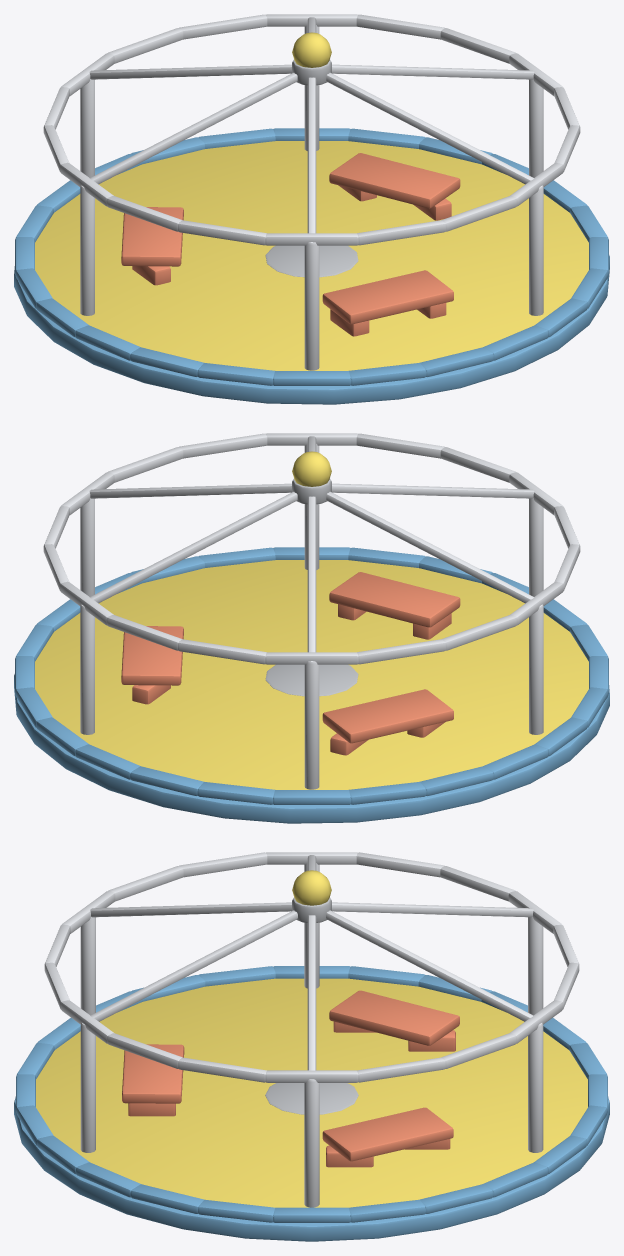
The model's file is th16_karussell_klein.glb.
The picture shows the model from 3 angles, top to bottom: view 1: azimuth 30°, elevation 25°; view 2: azimuth 150°, elevation 25°; view 3: azimuth 270°, elevation 25°; orthographic projection.
Visible parts, largest first — view 1: Cylinder.003, Cylinder.002, Cube.048, Cube.054, Cube.051, Cube.027, Cube.029, Cylinder.001, Cylinder.008, Cube.024, Cube.026, Cylinder.007 (+48 smaller); view 2: Cylinder.003, Cylinder.002, Cube.051, Cube.054, Cube.048, Cube.025, Cube.027, Cylinder.001, Cylinder.006, Cube.024, Cube.028, Cylinder.005 (+48 smaller); view 3: Cylinder.003, Cylinder.002, Cube.048, Cube.051, Cube.054, Cube.025, Cube.029, Cylinder.001, Cylinder.004, Cylinder.005, Cylinder.009, Cube.026 (+50 smaller).
Boxes of the visible parts, bbox=[...] form: Cylinder.003: bbox=[35, 141, 588, 370]; Cylinder.002: bbox=[14, 255, 609, 404]; Cube.048: bbox=[329, 153, 460, 208]; Cube.054: bbox=[322, 270, 453, 324]; Cube.051: bbox=[121, 207, 183, 266]; Cube.027: bbox=[89, 72, 297, 184]; Cube.029: bbox=[326, 72, 534, 184]; Cylinder.001: bbox=[265, 245, 358, 277]; Cylinder.008: bbox=[304, 242, 319, 370]; Cube.024: bbox=[332, 64, 534, 79]; Cube.026: bbox=[89, 64, 291, 79]; Cylinder.007: bbox=[80, 185, 94, 315]; Cylinder.003: bbox=[35, 560, 588, 789]; Cylinder.002: bbox=[14, 674, 609, 823]; Cube.051: bbox=[322, 689, 453, 743]; Cube.054: bbox=[329, 572, 460, 627]; Cube.048: bbox=[121, 626, 183, 685]; Cube.025: bbox=[89, 491, 297, 603]; Cube.027: bbox=[326, 491, 534, 603]; Cylinder.001: bbox=[265, 664, 358, 696]; Cylinder.006: bbox=[304, 661, 319, 789]; Cube.024: bbox=[89, 483, 291, 498]; Cube.028: bbox=[332, 483, 534, 498]; Cylinder.005: bbox=[80, 604, 94, 734]; Cylinder.003: bbox=[36, 978, 587, 1207]; Cylinder.002: bbox=[14, 1096, 609, 1241]; Cube.048: bbox=[322, 1107, 453, 1161]; Cube.051: bbox=[329, 990, 459, 1045]; Cube.054: bbox=[122, 1044, 184, 1103]; Cube.025: bbox=[326, 910, 533, 1021]; Cube.029: bbox=[90, 910, 297, 1021]; Cylinder.001: bbox=[265, 1083, 358, 1114]; Cylinder.004: bbox=[304, 1079, 319, 1207]; Cylinder.005: bbox=[528, 1023, 543, 1152]; Cylinder.009: bbox=[80, 1023, 95, 1152]; Cube.026: bbox=[332, 902, 533, 917].
Bounding box in the file's own units: 3 × 1.43 × 3.
